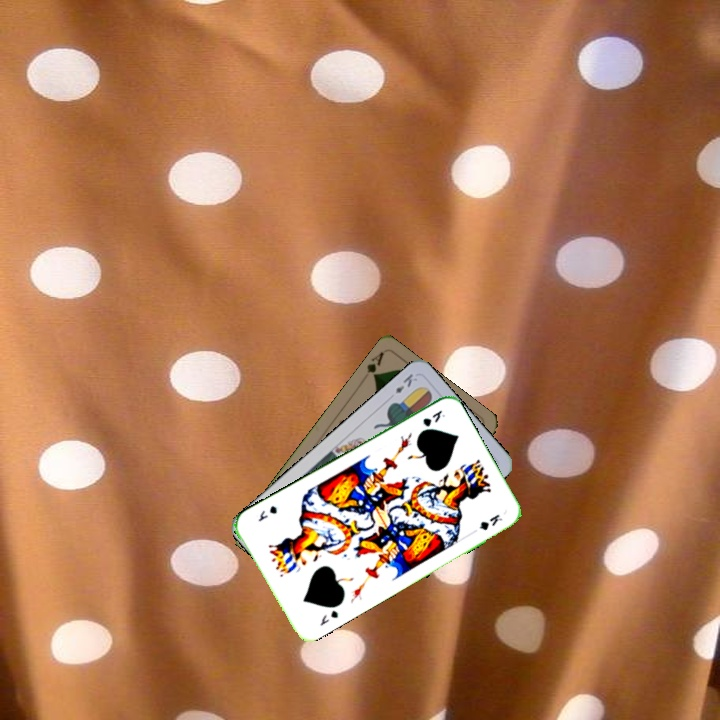EK: (391, 370, 420, 396)
GA: (363, 348, 386, 382)
GK: (419, 406, 448, 429), (316, 606, 341, 629)
